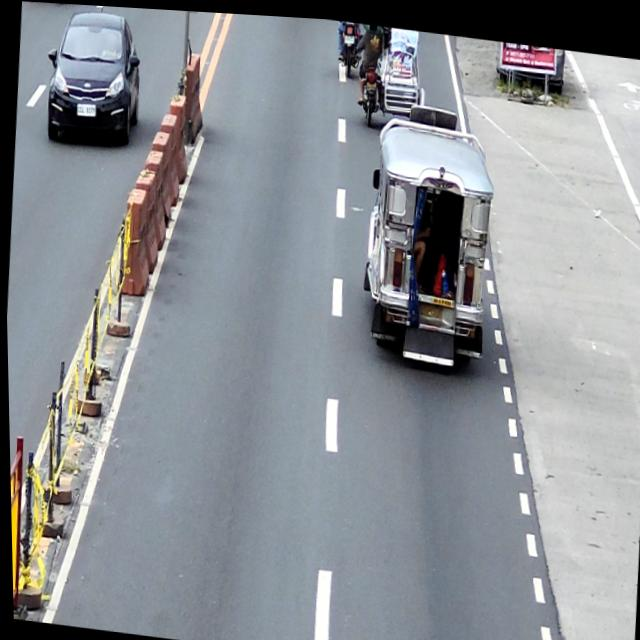Car: (40, 4, 146, 152)
Jeep: (354, 93, 502, 370)
License-Plate: (414, 296, 442, 317), (76, 100, 96, 116), (366, 77, 376, 87), (344, 30, 354, 39)
Motorcycle: (334, 16, 364, 75)
Tricycle: (356, 26, 430, 130)
